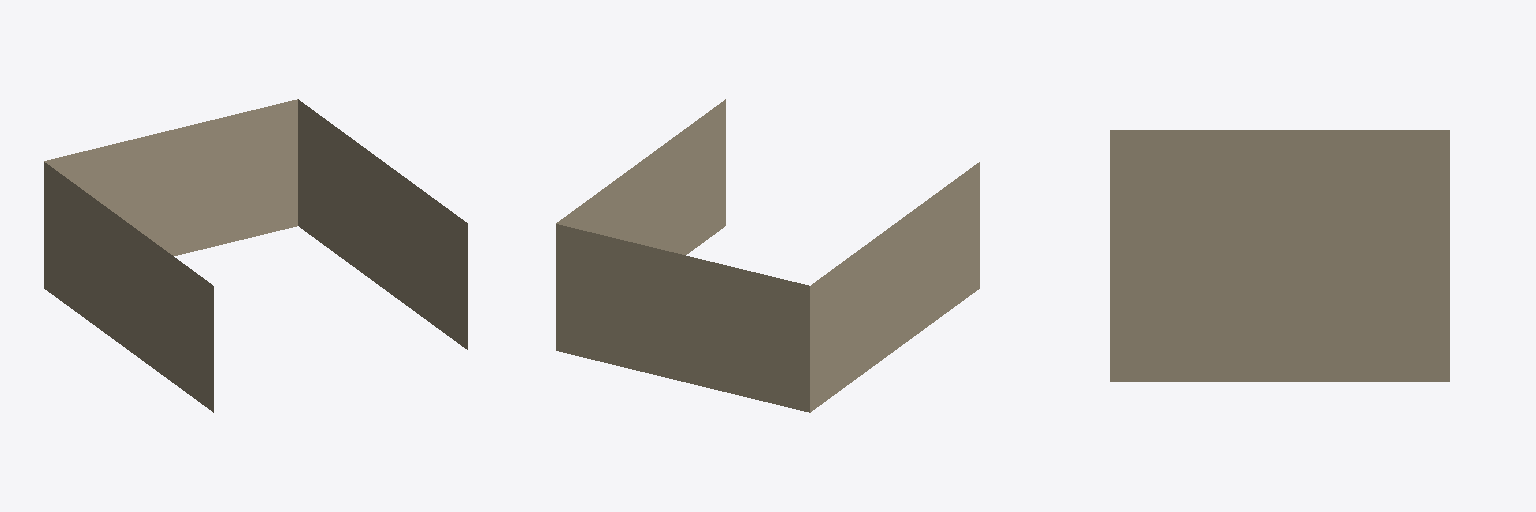
The model's file is wall.obj.
3 renders of one model, left to right at view 1: azimuth 30°, elevation 25°; view 2: azimuth 150°, elevation 25°; view 3: azimuth 270°, elevation 25°, orthographic.
Visible parts, largest first — view 1: Mesh1 Model; view 2: Mesh1 Model; view 3: Mesh1 Model.
Boxes of the visible parts, <box> form: Mesh1 Model: <box>44,99,467,412</box>; Mesh1 Model: <box>556,99,979,412</box>; Mesh1 Model: <box>1110,130,1449,381</box>.
Bounding box in the file's own units: 132 × 63 × 153.